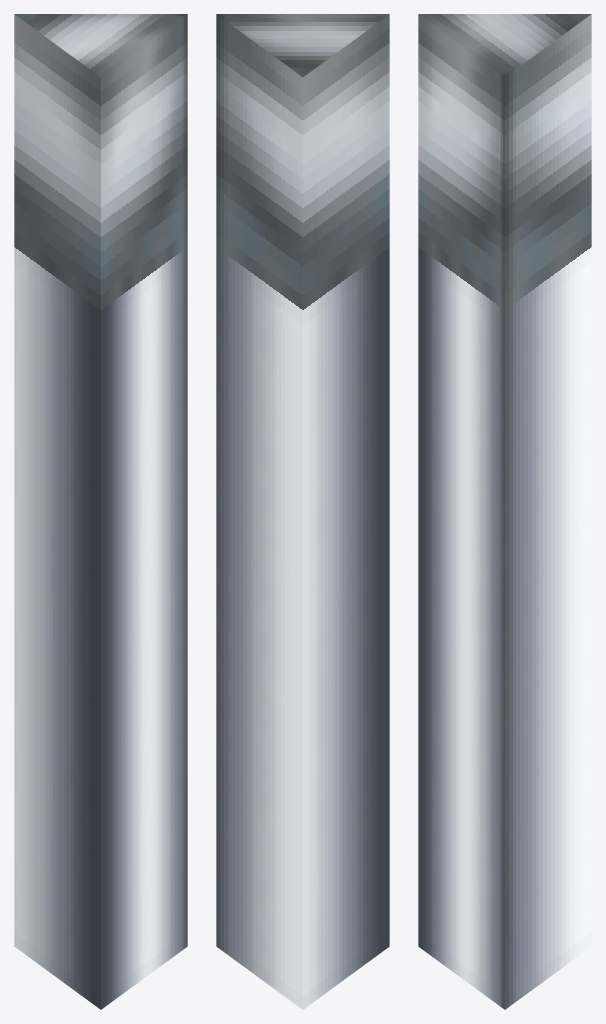
The picture shows the model from 3 angles, left to right: view 1: azimuth 30°, elevation 25°; view 2: azimuth 150°, elevation 25°; view 3: azimuth 270°, elevation 25°; orthographic projection.
Parts seen in each view (by area): view 1: Cylinder15; view 2: Cylinder15; view 3: Cylinder15.
Boxes of the visible parts, x1=… form: Cylinder15: x1=14, y1=14, x2=187, y2=1009; Cylinder15: x1=216, y1=14, x2=389, y2=1009; Cylinder15: x1=418, y1=14, x2=591, y2=1009.
Size of the model in its own units: 21.87 by 150 by 25.26.
Materials: 1 (1 with a texture image).
